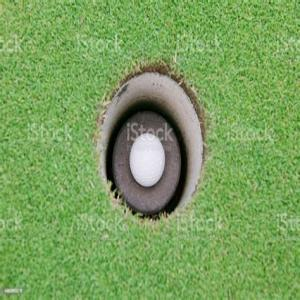Golf: (130, 133, 167, 186)
